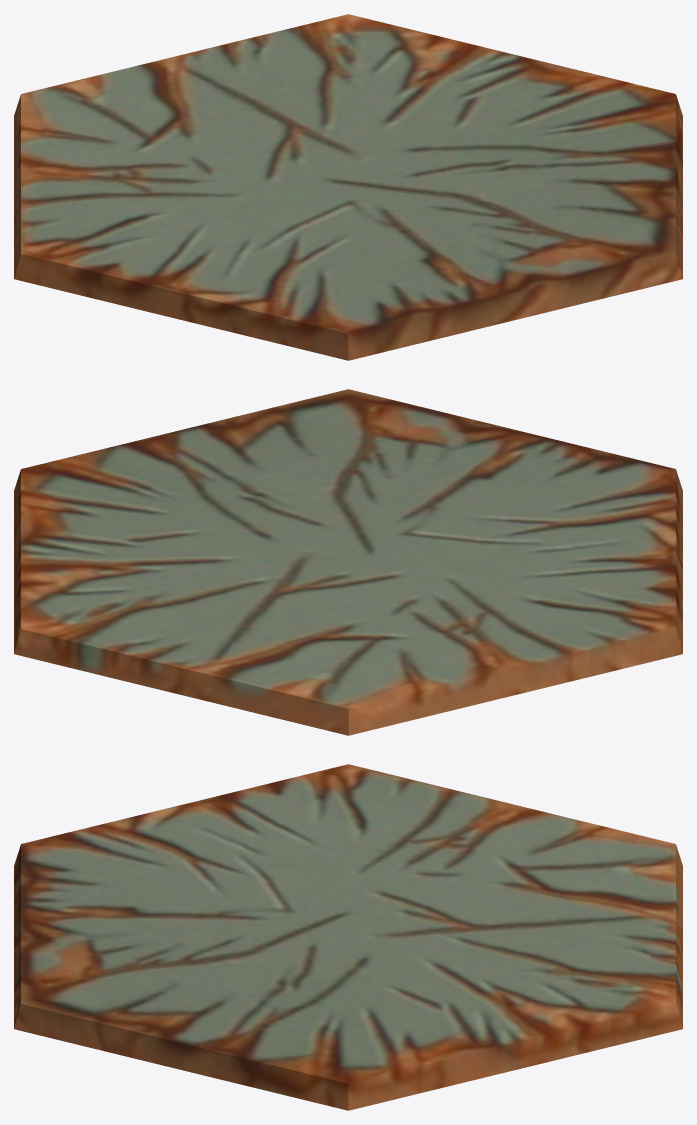
File: rock-cap-leafit.glb
3 views of the same model, one above another, from view 1: azimuth 30°, elevation 25°; view 2: azimuth 150°, elevation 25°; view 3: azimuth 270°, elevation 25° (orthographic).
Visible parts, largest first — view 1: RockCapLeafit; view 2: RockCapLeafit; view 3: RockCapLeafit.
Part boxes in pixels (x1,y1,x2,y2): RockCapLeafit: [14, 14, 682, 360]; RockCapLeafit: [14, 389, 682, 735]; RockCapLeafit: [14, 764, 682, 1110].
Bounding box in the file's own units: 1.75 × 0.0591 × 1.52.
1 material, 1 textured.
